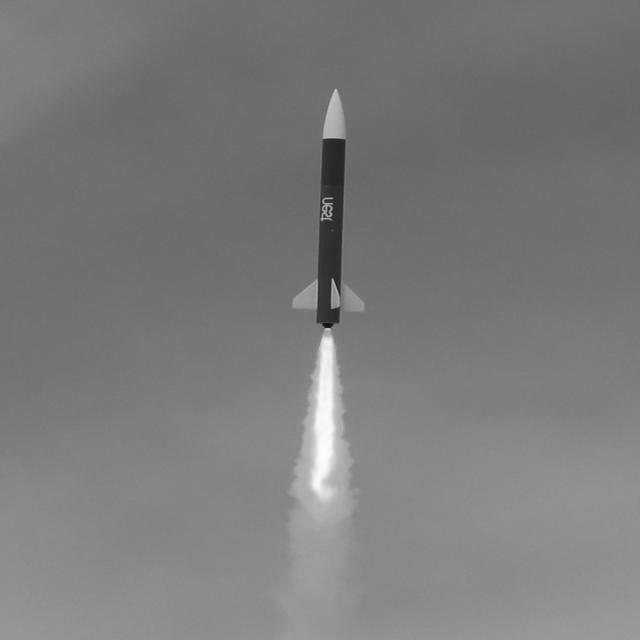missile: (289, 85, 366, 329), (309, 72, 352, 350)
